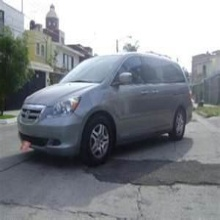no damage: (17, 52, 196, 163)
